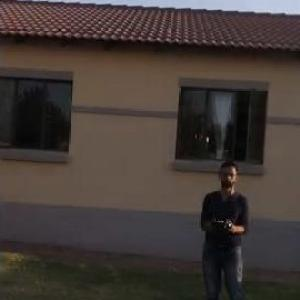follow: (194, 152, 255, 299)
